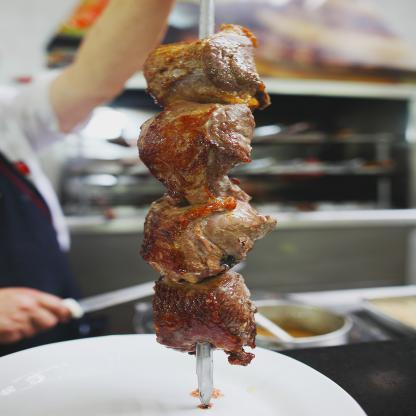Carne: (137, 202, 278, 280), (148, 277, 264, 359), (140, 114, 254, 190), (146, 31, 266, 103)
